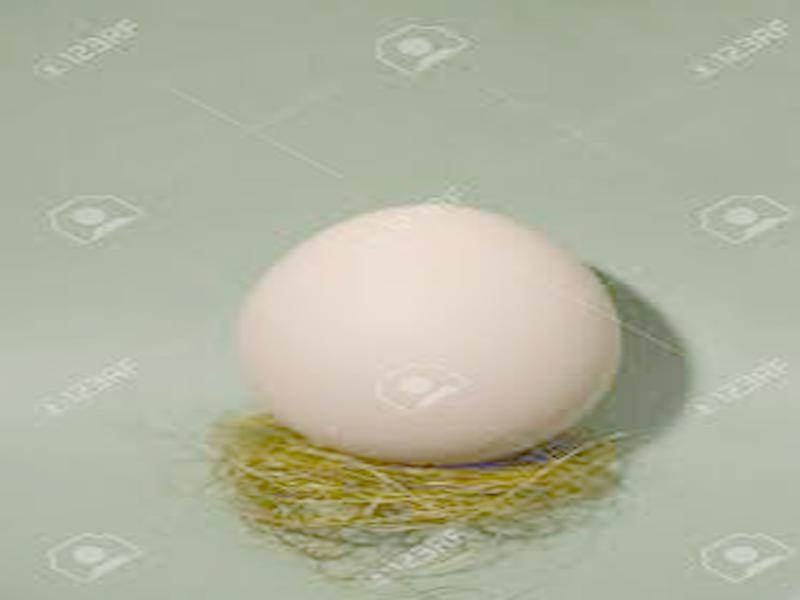Eggs: (237, 200, 620, 460)
